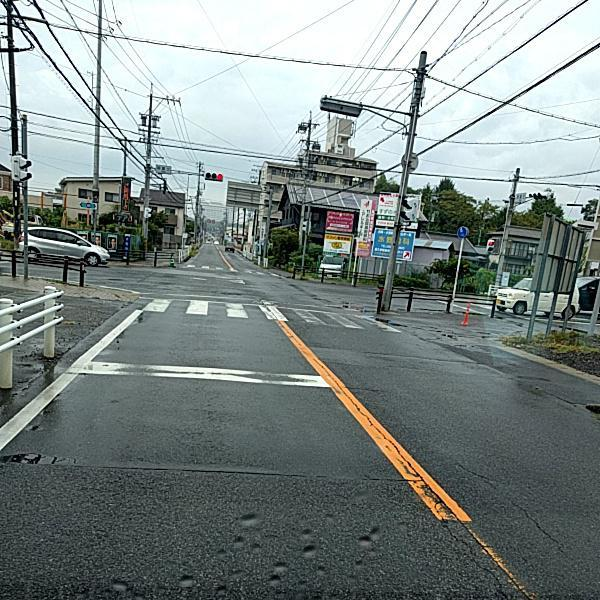D00: (452, 462, 574, 555)
D44: (77, 349, 325, 403)
